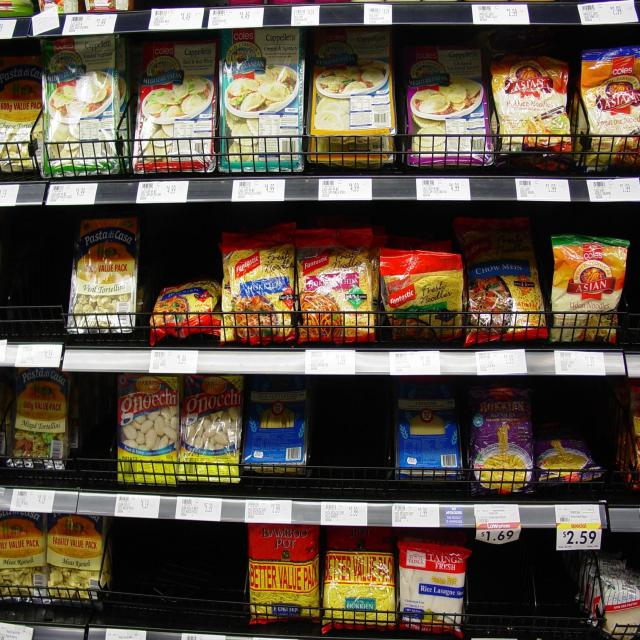void: (113, 524, 241, 623), (468, 553, 580, 631), (310, 385, 390, 493), (2, 241, 68, 332), (77, 393, 116, 484)
